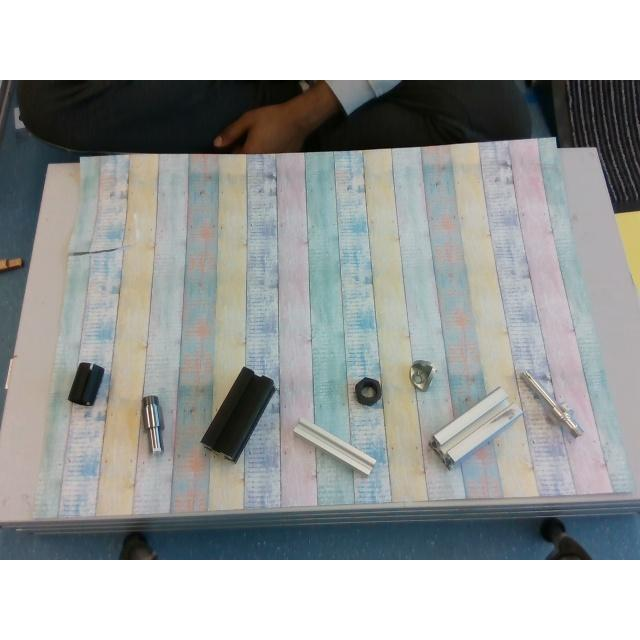Axis2: (142, 396, 162, 452)
F20_20_G: (293, 418, 375, 474)
M20: (354, 378, 382, 407)
S40_40_B: (200, 366, 276, 462)
S40_40_G: (430, 386, 522, 466)
